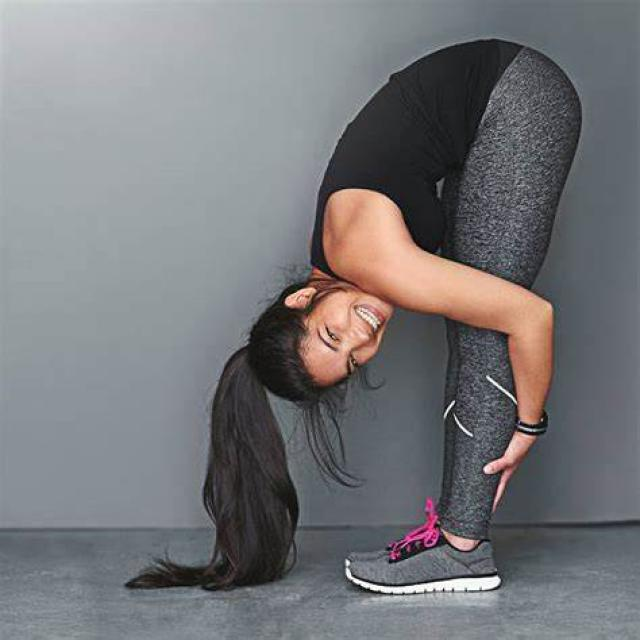stand: (263, 10, 562, 640)
